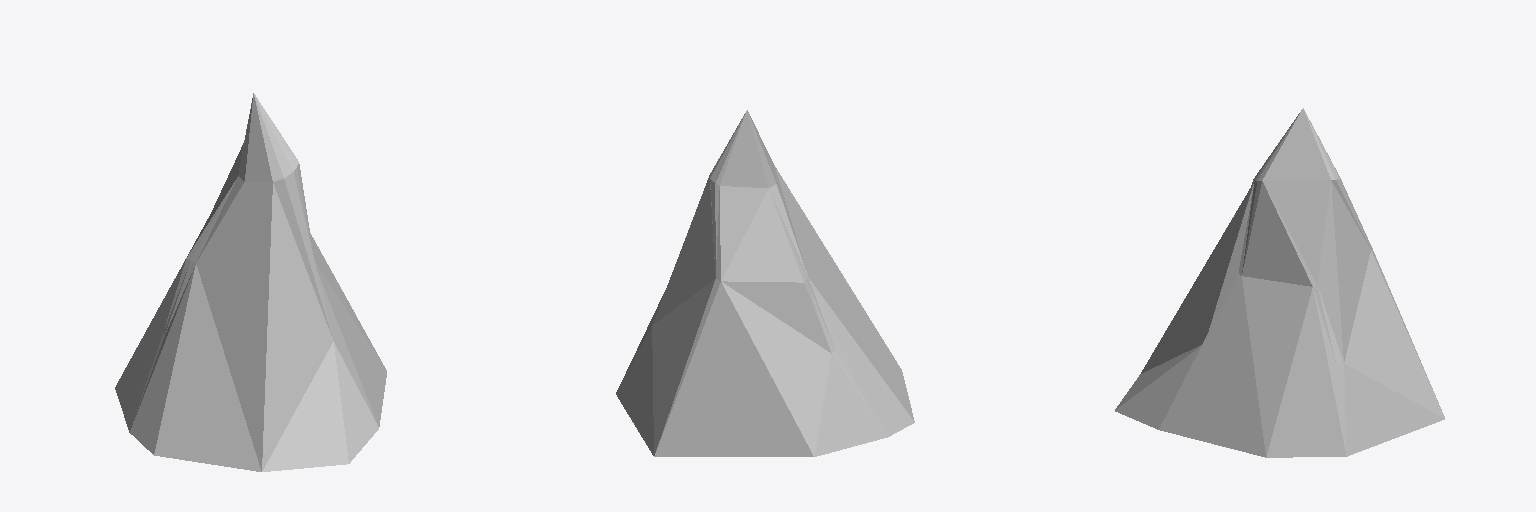
The model's file is Stalagmite2.obj.
The picture shows the model from 3 angles: view 1: azimuth 30°, elevation 25°; view 2: azimuth 150°, elevation 25°; view 3: azimuth 270°, elevation 25°; orthographic projection.
Parts seen in each view (by area): view 1: Cone; view 2: Cone; view 3: Cone.
Boxes of the visible parts, x1=… form: Cone: x1=115, y1=93, x2=386, y2=471; Cone: x1=616, y1=110, x2=914, y2=456; Cone: x1=1115, y1=108, x2=1444, y2=457.
Bounding box in the file's own units: 3.24 × 3.79 × 3.73.